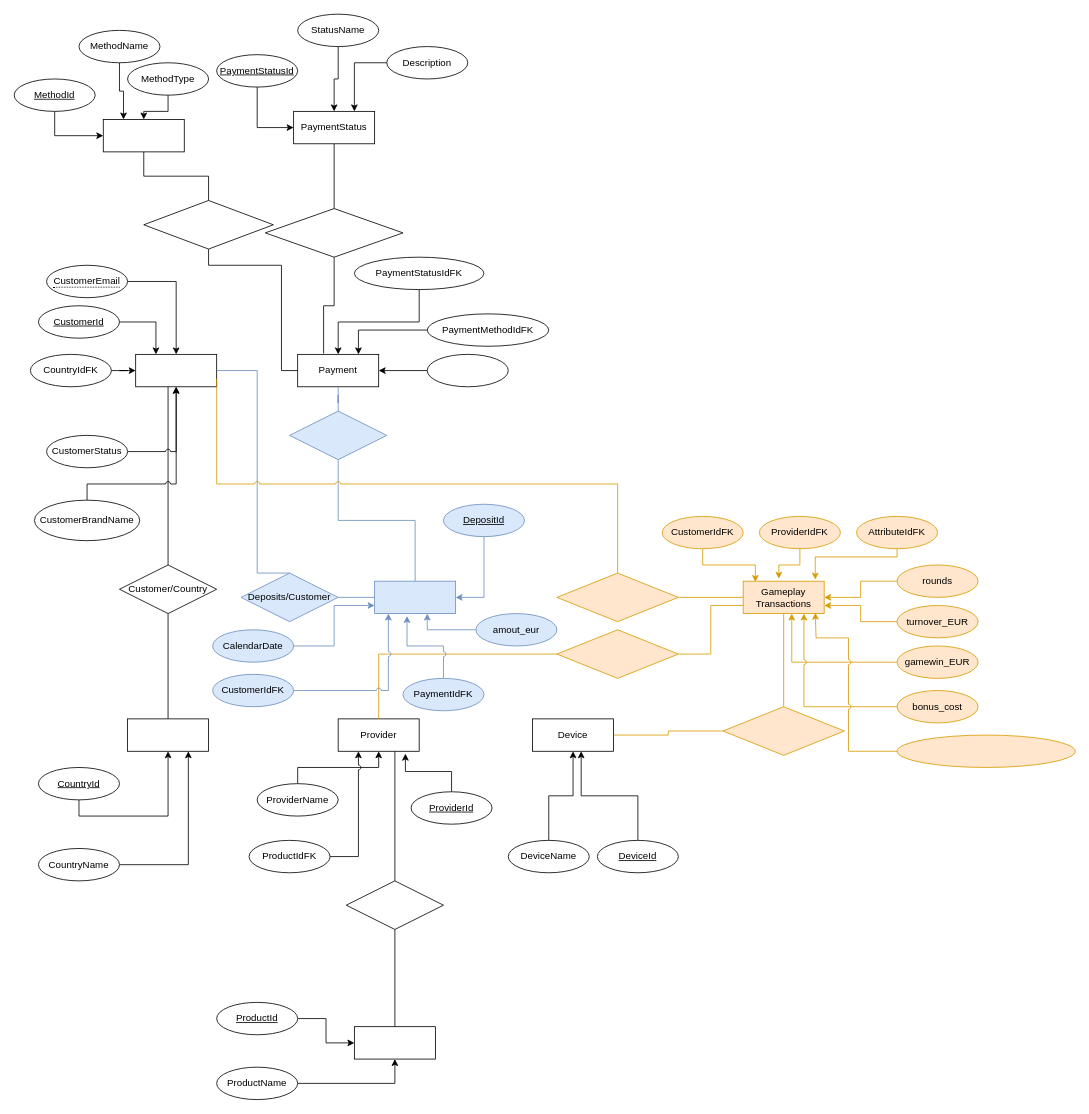
Image size: 1089x1114. Some labels were removed from this diagram. The centre of each missing label's shape, as x and y in pixels:
"Country" belongs at point (168, 734).
"Customer" belongs at point (176, 370).
"Deposits" belongs at point (415, 597).
"Deposits/Payments" belongs at point (338, 435).
"GameplayTransactions /Customer" belongs at point (617, 597).
"GameplayTransactions /Device" belongs at point (783, 730).
"GameplayTransactions /Provider" belongs at point (617, 653).
"Payment/ PaymentMethod" belongs at point (208, 224).
"Payment/PaymentStatus" belongs at point (333, 232).
"PaymentId" belongs at point (467, 370).
"PaymentMethod" belongs at point (143, 135).
"Product" belongs at point (394, 1042).
"Provider/Product" belongs at point (394, 904).
"totalAccountingRevenue_EUR" belongs at point (985, 750).
